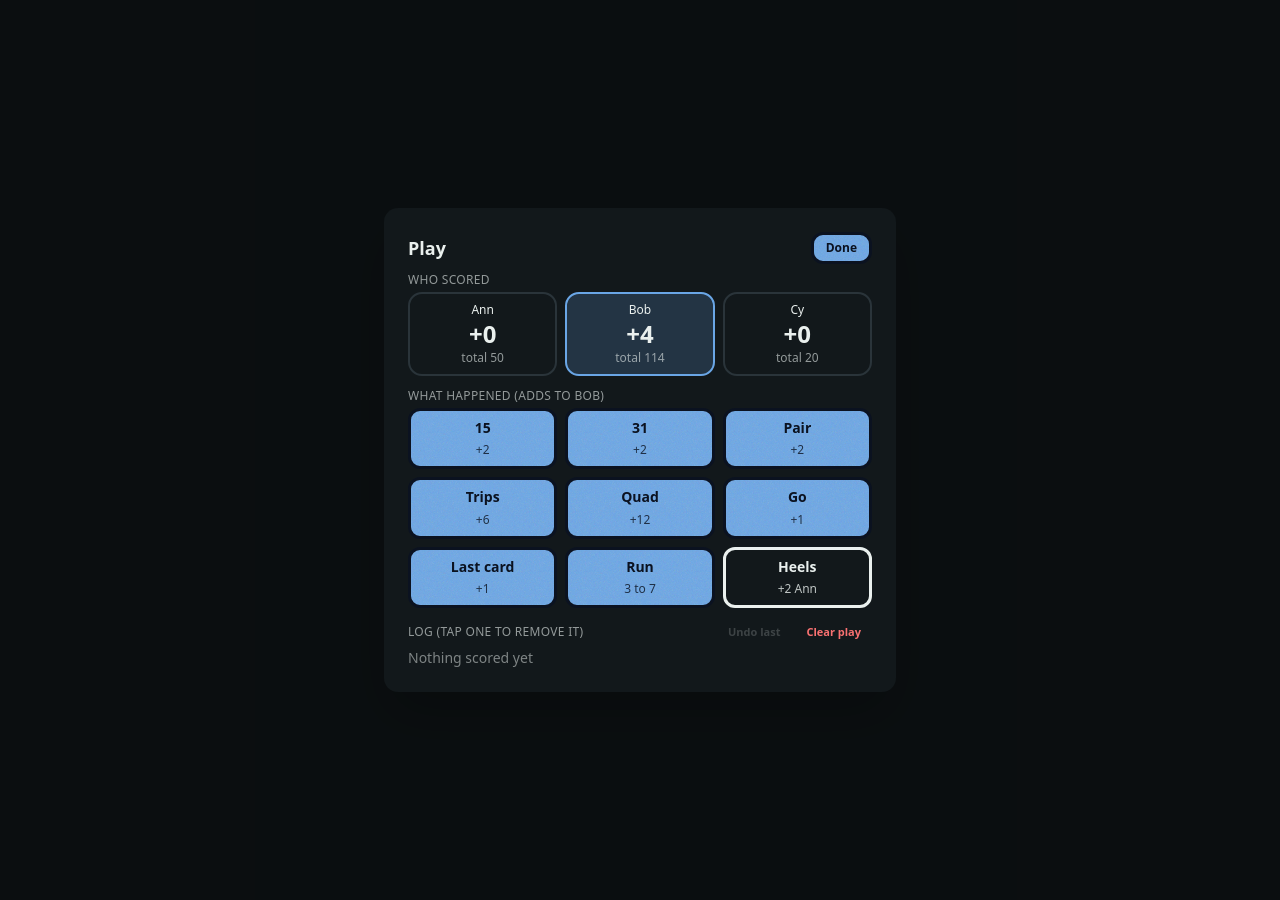
Test: PlaySheet › tapping a log entry removes just that entry and takes its points back
What coordinates should you click on to do the following:
click the text "15"
I would click on:
 (483, 428)
Its box is 475,419 -> 491,436.
Wait 2100 ms
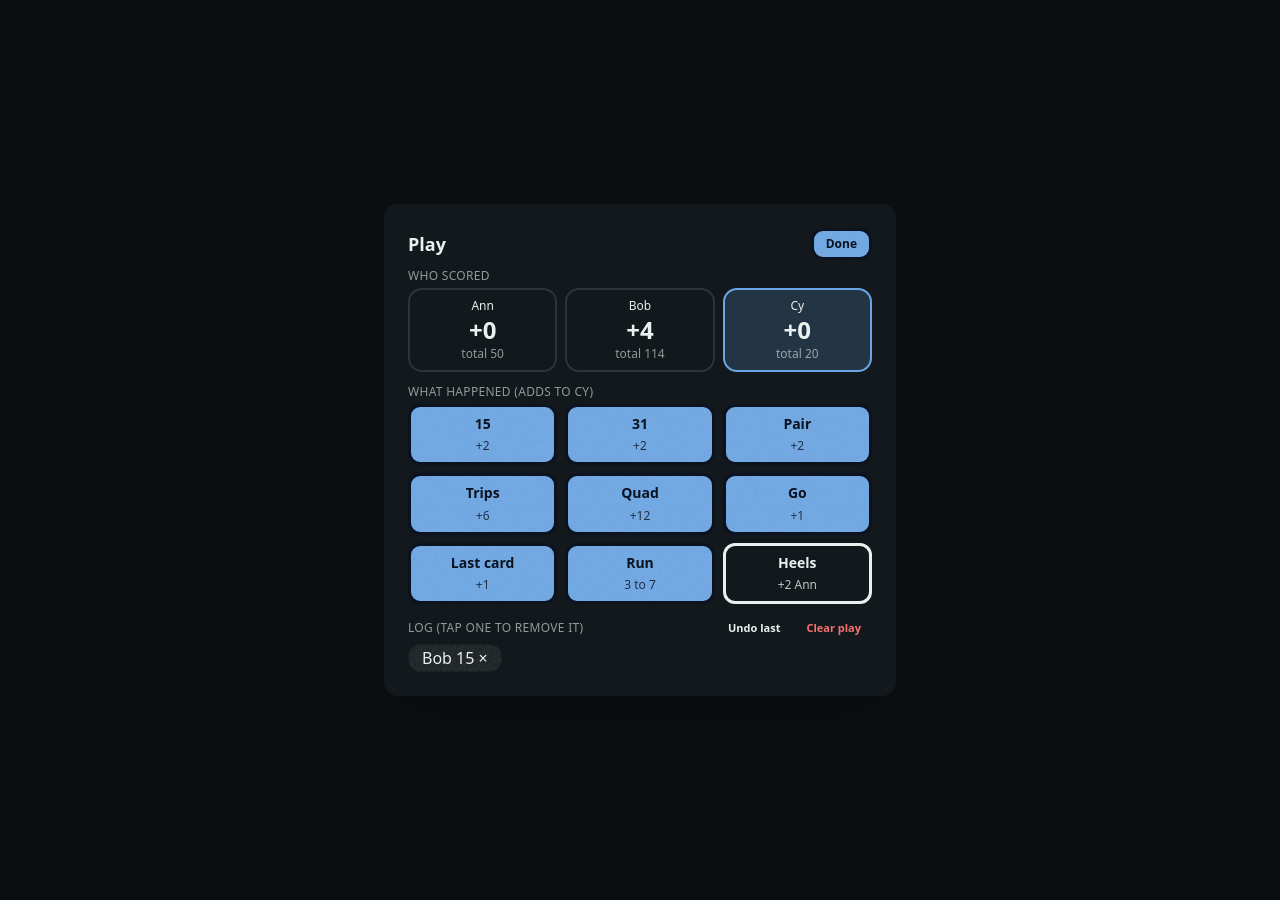
What coordinates should you click on to do the following:
click the text "Trips"
I would click on:
 (483, 493)
Its box is 466,484 -> 500,502.
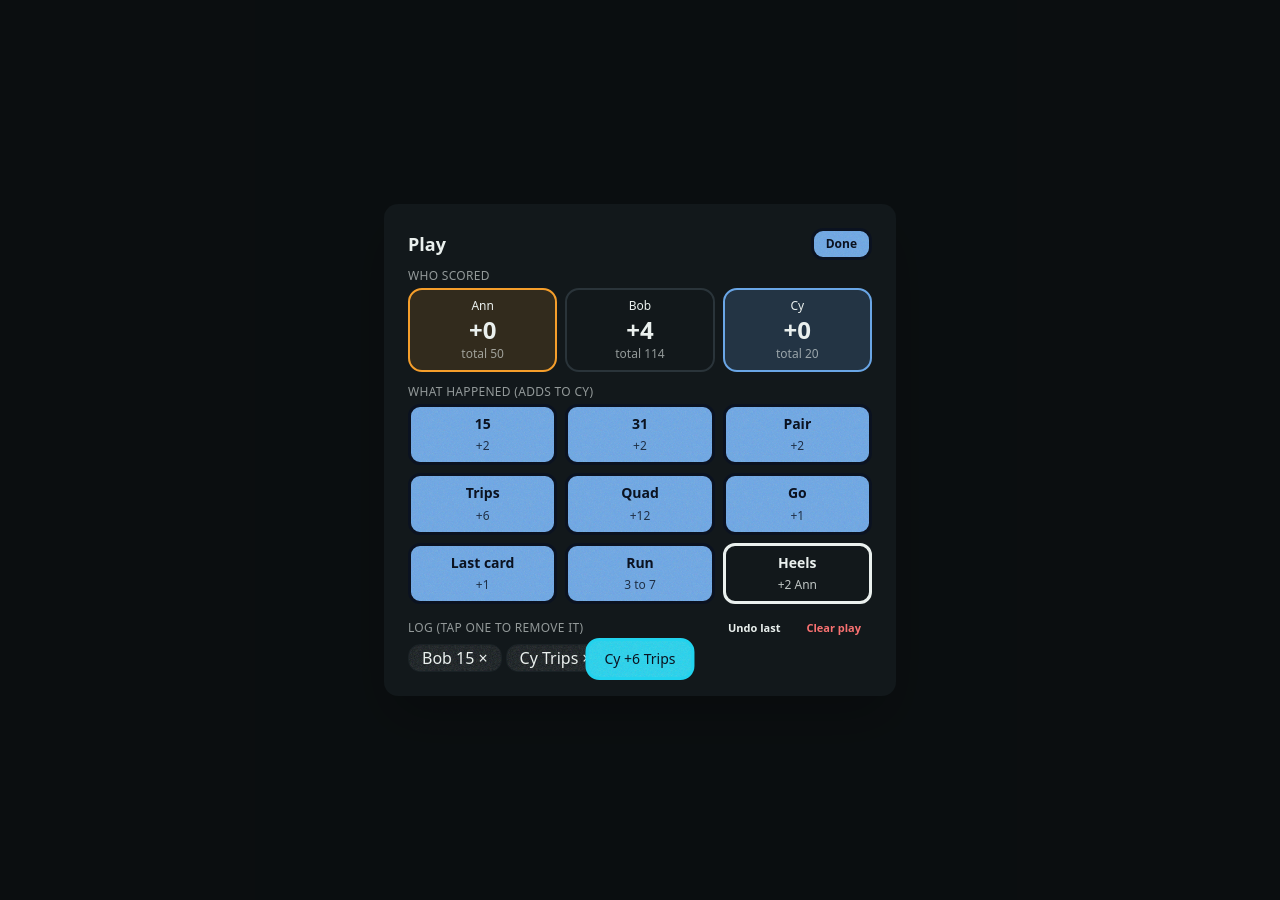
What coordinates should you click on to do the following:
click the button with aria-label "Remove Bob 15"
I would click on:
 (455, 658)
Its box is 408,644 -> 502,672.
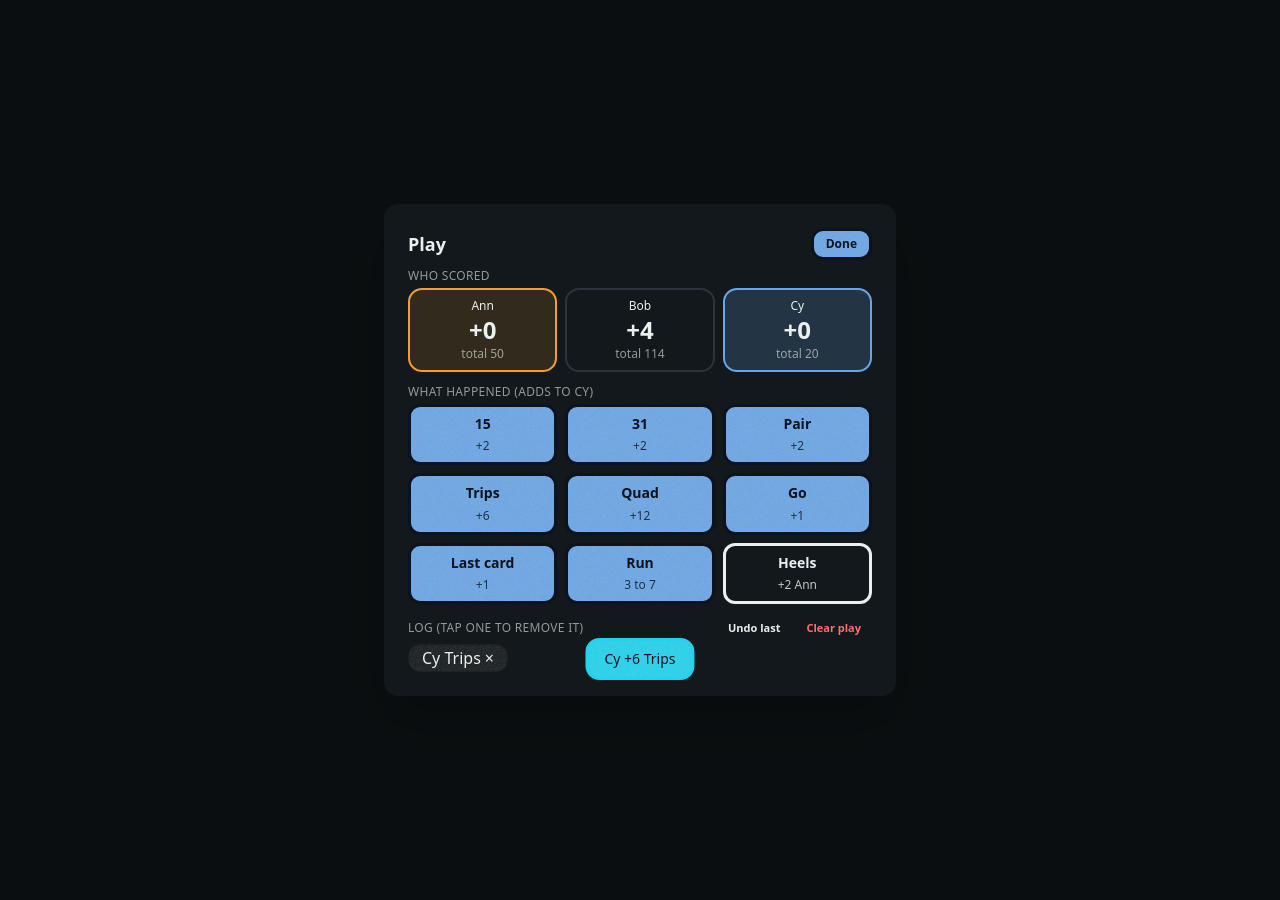
Expected: the element with test id "play-log" shows "Cy Trips", 408,644 -> 508,672
Expected: the element with test id "play-log" no longer shows "Bob 15", 408,644 -> 508,672
